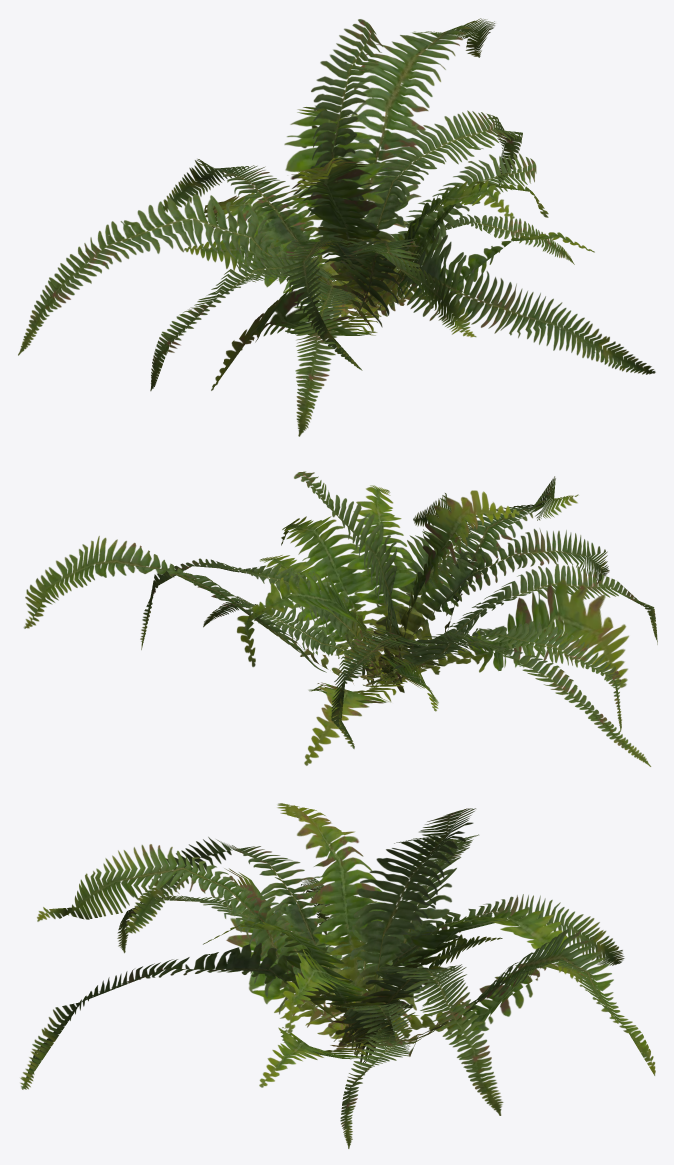
The model's file is Fern.glb.
3 renders of one model, top to bottom at view 1: azimuth 30°, elevation 25°; view 2: azimuth 150°, elevation 25°; view 3: azimuth 270°, elevation 25°, orthographic. The views are drawn at different scales.
Visible parts, largest first — view 1: Fern; view 2: Fern; view 3: Fern.
Part boxes in pixels (bbox=[...]): Fern: bbox=[18, 18, 655, 436]; Fern: bbox=[23, 471, 657, 766]; Fern: bbox=[20, 803, 655, 1148].
Bounding box in the file's own units: 5.24 × 2.25 × 4.7.
1 material, 1 textured.
